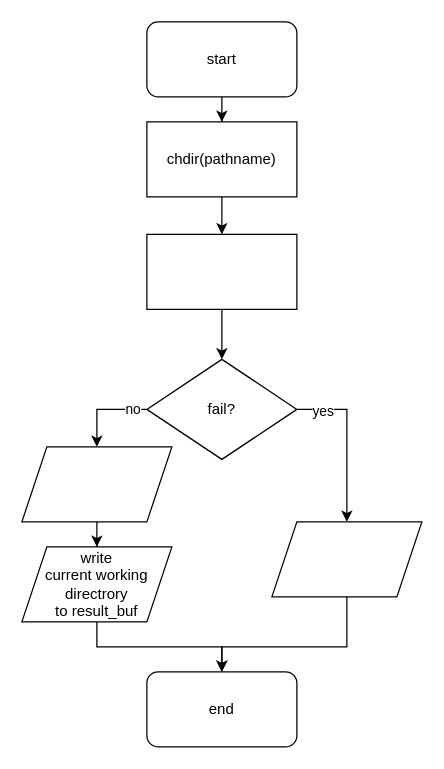
Some shapes in this 444 by 769 pixel diagram are drawn without their labels. The shapes that lost their labels are listed below. From the top down, each one's centre as x and y in pixels, then its label:
At point 221,271: "getcwd (wd, MAX_BUFF)".
At point 96,484: "write FTP command to result_buf".
At point 346,559: "write error message to result_buf".
